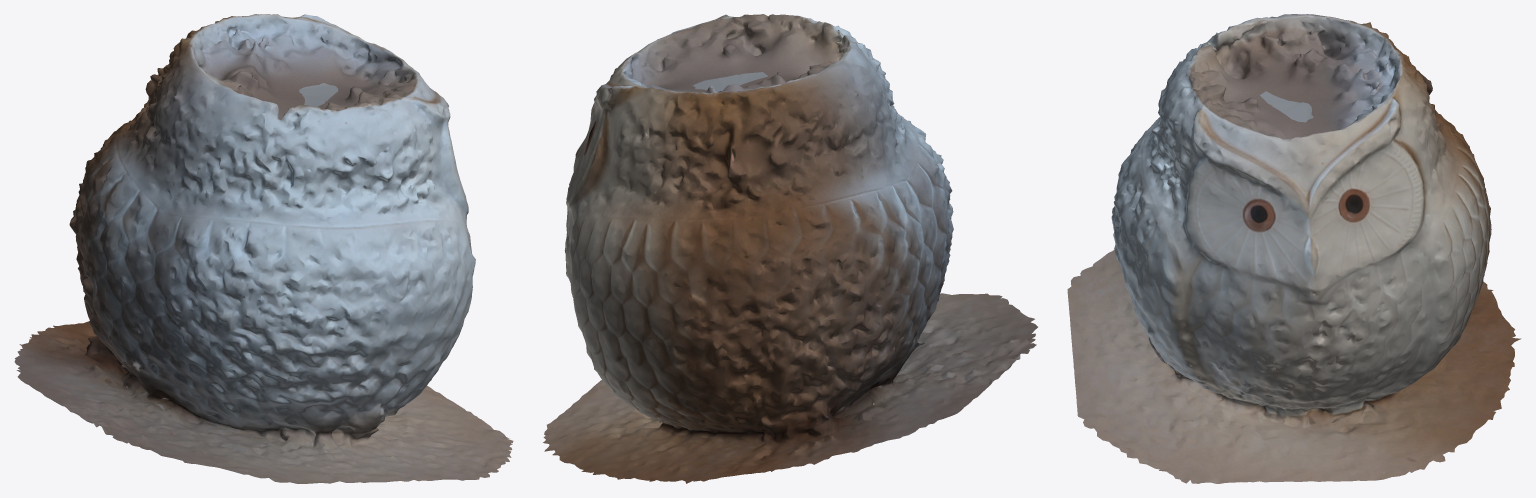
File: owl_9de74d0d.glb
3 renders of one model, left to right at view 1: azimuth 30°, elevation 25°; view 2: azimuth 150°, elevation 25°; view 3: azimuth 270°, elevation 25°, orthographic. The views are drawn at different scales.
Visible parts, largest first — view 1: Object_2; view 2: Object_2; view 3: Object_2.
Part boxes in pixels (x1=…): Object_2: x1=14, y1=14, x2=513, y2=483; Object_2: x1=543, y1=14, x2=1037, y2=483; Object_2: x1=1067, y1=14, x2=1521, y2=483.
Bounding box in the file's own units: 1.72 × 1.57 × 1.8.
Materials: 1 (1 with a texture image).
